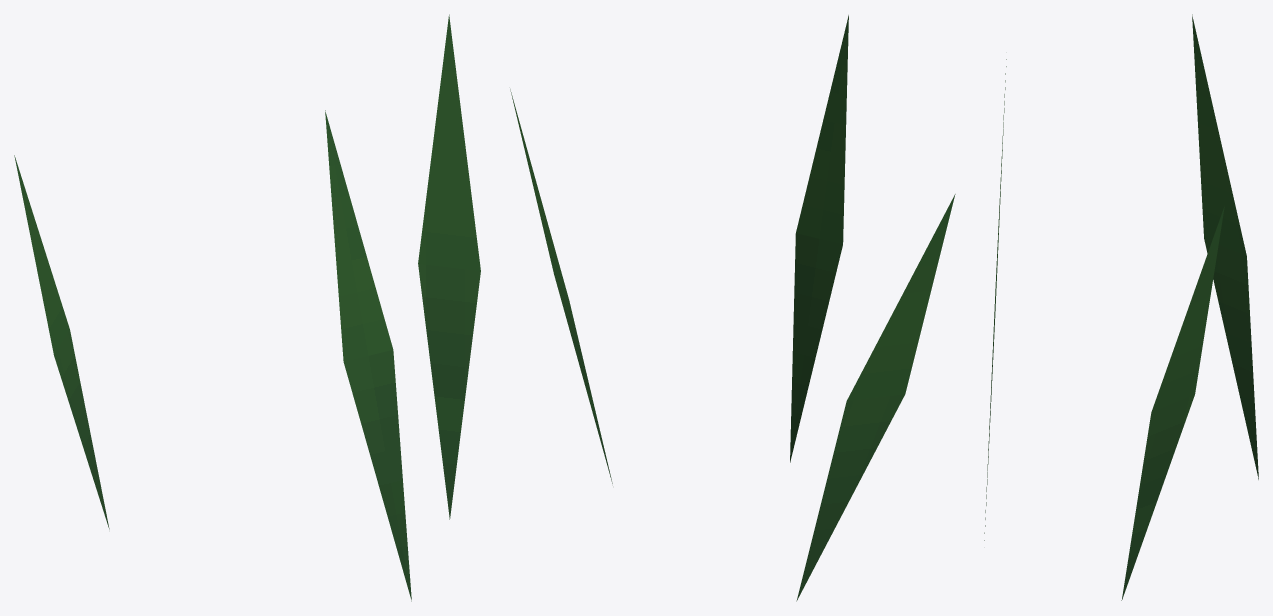
Rendered from plants_me_dlc1_main_grass111.gltf.
3 renders of one model, left to right at view 1: azimuth 30°, elevation 25°; view 2: azimuth 150°, elevation 25°; view 3: azimuth 270°, elevation 25°, orthographic. The views are drawn at different scales.
Visible parts, largest first — view 1: plants_me_dlc1_main_grass111_mesh_shape:plants_me_dlc1_main_; view 2: plants_me_dlc1_main_grass111_mesh_shape:plants_me_dlc1_main_; view 3: plants_me_dlc1_main_grass111_mesh_shape:plants_me_dlc1_main_.
Part boxes in pixels (x1,y1,x2,y2): plants_me_dlc1_main_grass111_mesh_shape:plants_me_dlc1_main_: [14, 14, 480, 601]; plants_me_dlc1_main_grass111_mesh_shape:plants_me_dlc1_main_: [510, 15, 955, 601]; plants_me_dlc1_main_grass111_mesh_shape:plants_me_dlc1_main_: [984, 14, 1258, 600].
Bounding box in the file's own units: 0.4252 × 0.45 × 0.24.
1 material, 1 textured.
